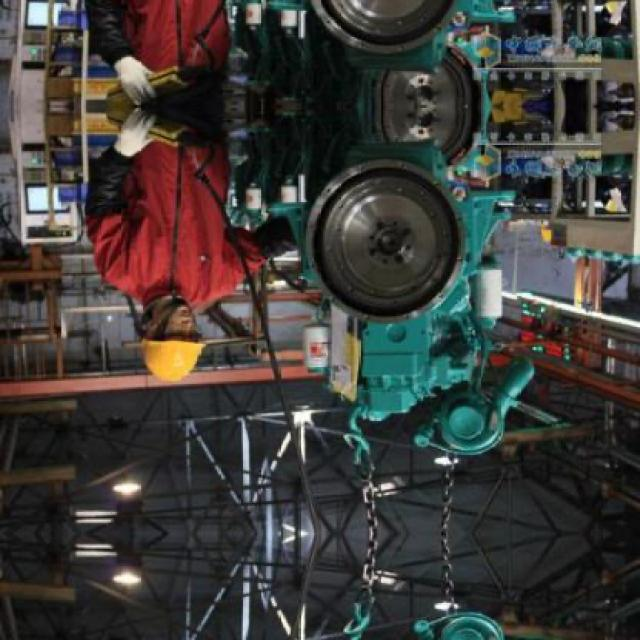con casco: (126, 290, 228, 400)
